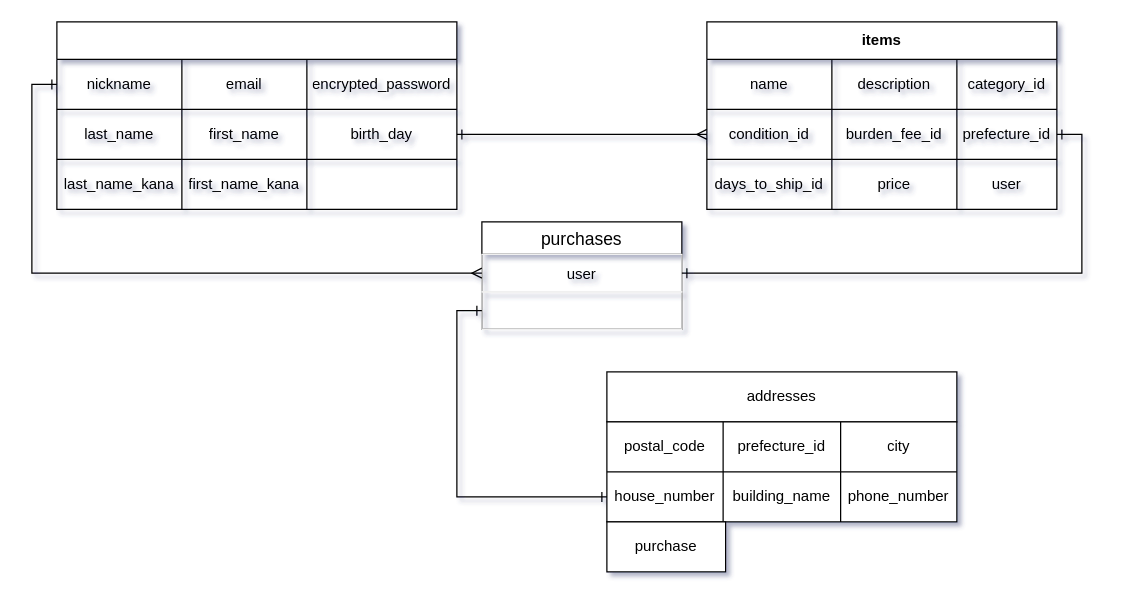
Some shapes in this 1123 by 601 pixel diagram are drawn without their labels. The box of each missing label's shape, as (x1, y1, x2, y2) in pixels:
item: (481, 291, 682, 329)
users: (56, 21, 457, 209)
